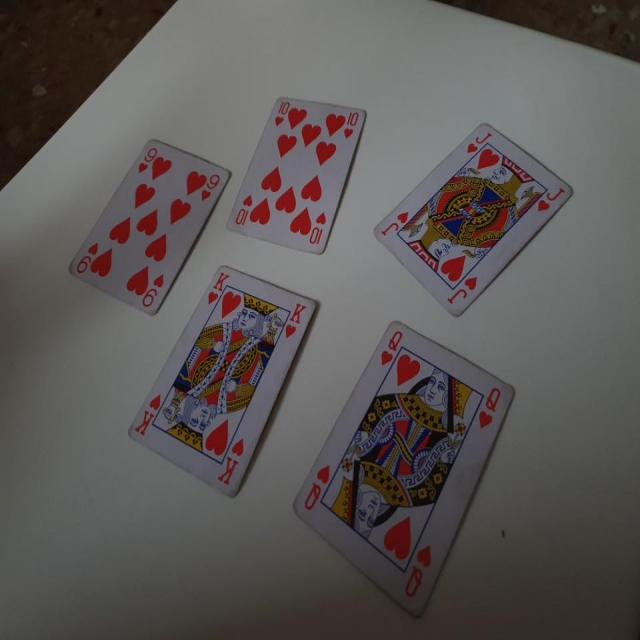10 Hearts: (212, 92, 373, 258)
9 Hearts: (66, 128, 236, 316)
J Hearts: (369, 120, 576, 319)
K Hearts: (122, 260, 323, 516)
Q Hearts: (287, 316, 516, 617)
